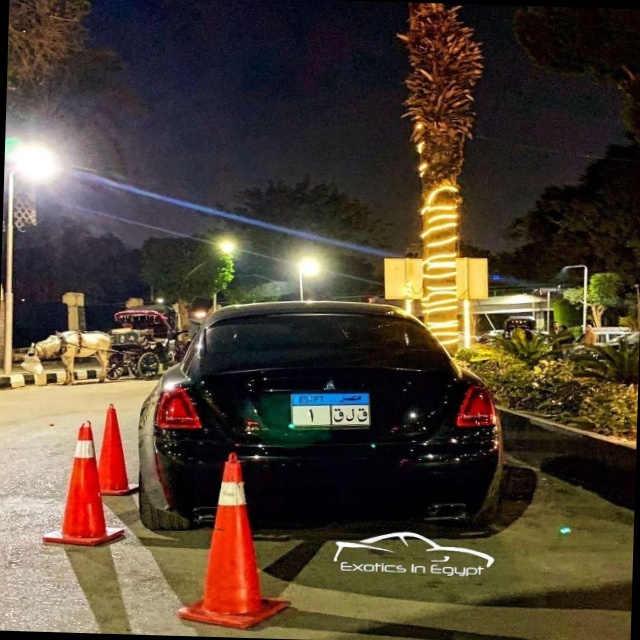License Plate: (289, 389, 372, 429)
